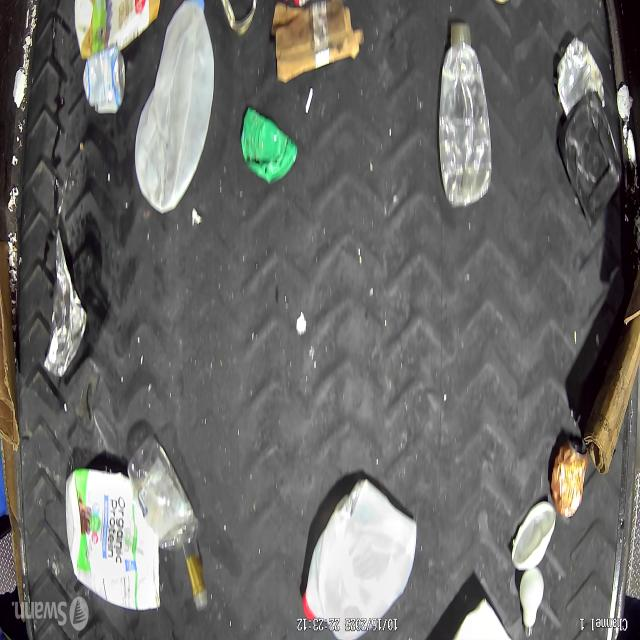can: (44, 229, 87, 379), (554, 38, 604, 118), (550, 436, 589, 520), (81, 46, 124, 116)
milk_jug: (303, 479, 417, 640), (136, 0, 214, 212)
non_white_jug: (64, 468, 161, 611)
plastic_bottle: (128, 435, 208, 612), (437, 17, 493, 208)
